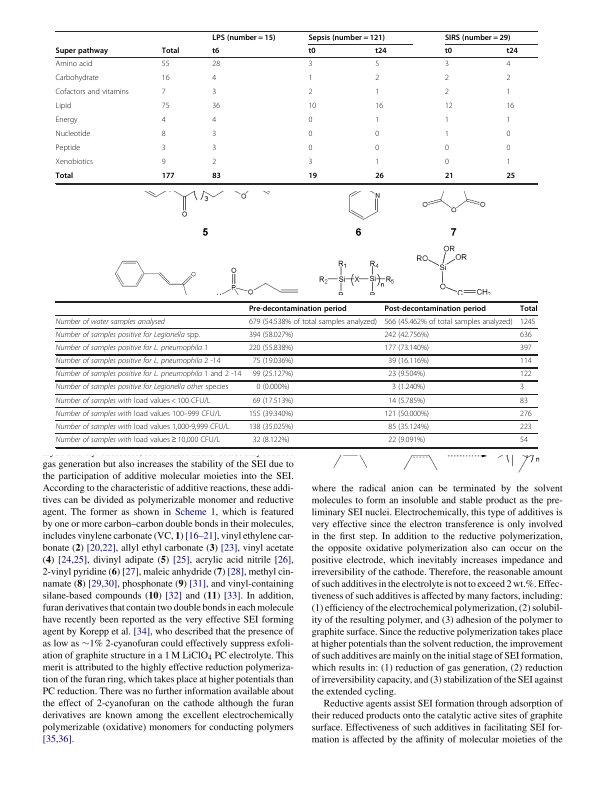borderless: (54, 29, 537, 183), (55, 300, 537, 447)
cell: (55, 422, 231, 432), (55, 370, 242, 379), (55, 409, 222, 419), (55, 356, 221, 366), (55, 435, 221, 445), (55, 383, 229, 392), (55, 343, 209, 353), (55, 330, 201, 340), (55, 396, 211, 405), (248, 317, 378, 327), (383, 317, 513, 327), (55, 317, 166, 327), (383, 304, 487, 313), (248, 304, 347, 313), (55, 87, 130, 97), (307, 33, 386, 42), (444, 33, 511, 42), (211, 33, 276, 42), (55, 46, 109, 56), (383, 330, 430, 340), (383, 343, 430, 353), (383, 409, 430, 419), (248, 330, 294, 340), (248, 343, 294, 353), (248, 409, 294, 419), (248, 422, 294, 432), (55, 73, 100, 83), (387, 356, 430, 366), (387, 422, 430, 432), (252, 356, 294, 366), (387, 435, 426, 445), (55, 157, 94, 167), (252, 435, 290, 445), (55, 59, 93, 69), (252, 370, 294, 379), (252, 396, 294, 405), (55, 129, 91, 139), (387, 370, 426, 379), (387, 396, 426, 405), (255, 383, 290, 392), (391, 383, 426, 392), (55, 143, 81, 153), (55, 115, 78, 125), (161, 46, 180, 56), (55, 171, 74, 181), (519, 304, 538, 313), (519, 317, 536, 327), (55, 101, 72, 111), (519, 330, 533, 340), (519, 343, 533, 353), (519, 356, 533, 366), (519, 409, 533, 419), (519, 422, 533, 432), (374, 46, 388, 56), (505, 46, 519, 56), (161, 171, 175, 181), (519, 370, 533, 379), (211, 171, 222, 181), (307, 171, 318, 181), (374, 171, 385, 181), (505, 171, 516, 181), (519, 435, 529, 445), (211, 59, 221, 69), (211, 101, 221, 111), (307, 101, 317, 111), (374, 101, 384, 111), (444, 101, 454, 111), (505, 101, 515, 111), (444, 171, 454, 181), (519, 396, 529, 405), (211, 46, 220, 56), (307, 46, 316, 56), (444, 46, 453, 56), (161, 59, 170, 69), (161, 73, 170, 83), (161, 101, 170, 111), (307, 59, 313, 69), (374, 59, 380, 69), (444, 59, 450, 69), (505, 59, 511, 69), (211, 73, 217, 83), (307, 73, 313, 83), (374, 73, 380, 83), (444, 73, 450, 83), (505, 73, 511, 83), (161, 87, 167, 97), (211, 87, 217, 97), (307, 87, 313, 97), (374, 87, 380, 97), (444, 87, 450, 97), (505, 87, 511, 97), (161, 115, 167, 125), (211, 115, 217, 125), (307, 115, 313, 125), (374, 115, 380, 125), (444, 115, 450, 125), (505, 115, 511, 125), (161, 129, 167, 139), (211, 129, 217, 139), (307, 129, 313, 139), (374, 129, 380, 139), (444, 129, 450, 139), (505, 129, 511, 139), (161, 143, 167, 153), (211, 143, 217, 153), (307, 143, 313, 153), (374, 143, 380, 153), (444, 143, 450, 153), (505, 143, 511, 153), (161, 157, 167, 167), (211, 157, 217, 167), (307, 157, 313, 167), (374, 157, 380, 167), (444, 157, 450, 167), (505, 157, 511, 167), (519, 383, 525, 392)
